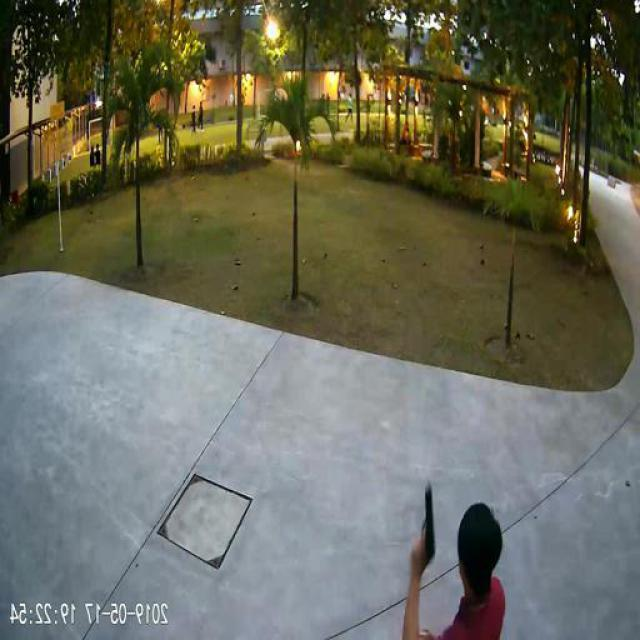Gun: (412, 484, 438, 562)
